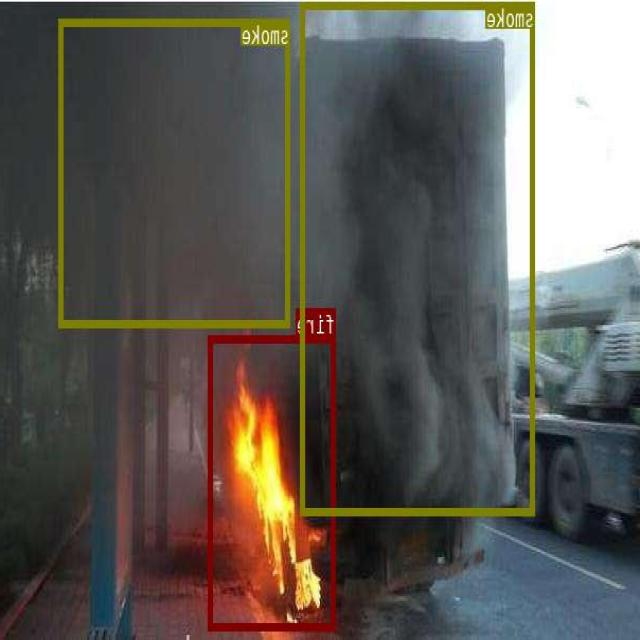fire: (210, 334, 336, 630)
smoke: (301, 1, 536, 515), (60, 19, 292, 325)
